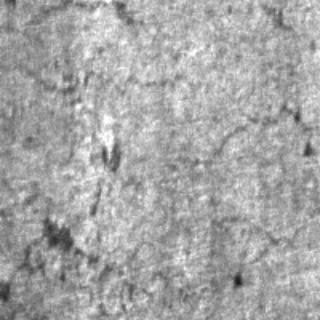crazing: (2, 205, 306, 309), (2, 0, 192, 91), (160, 98, 316, 168)
